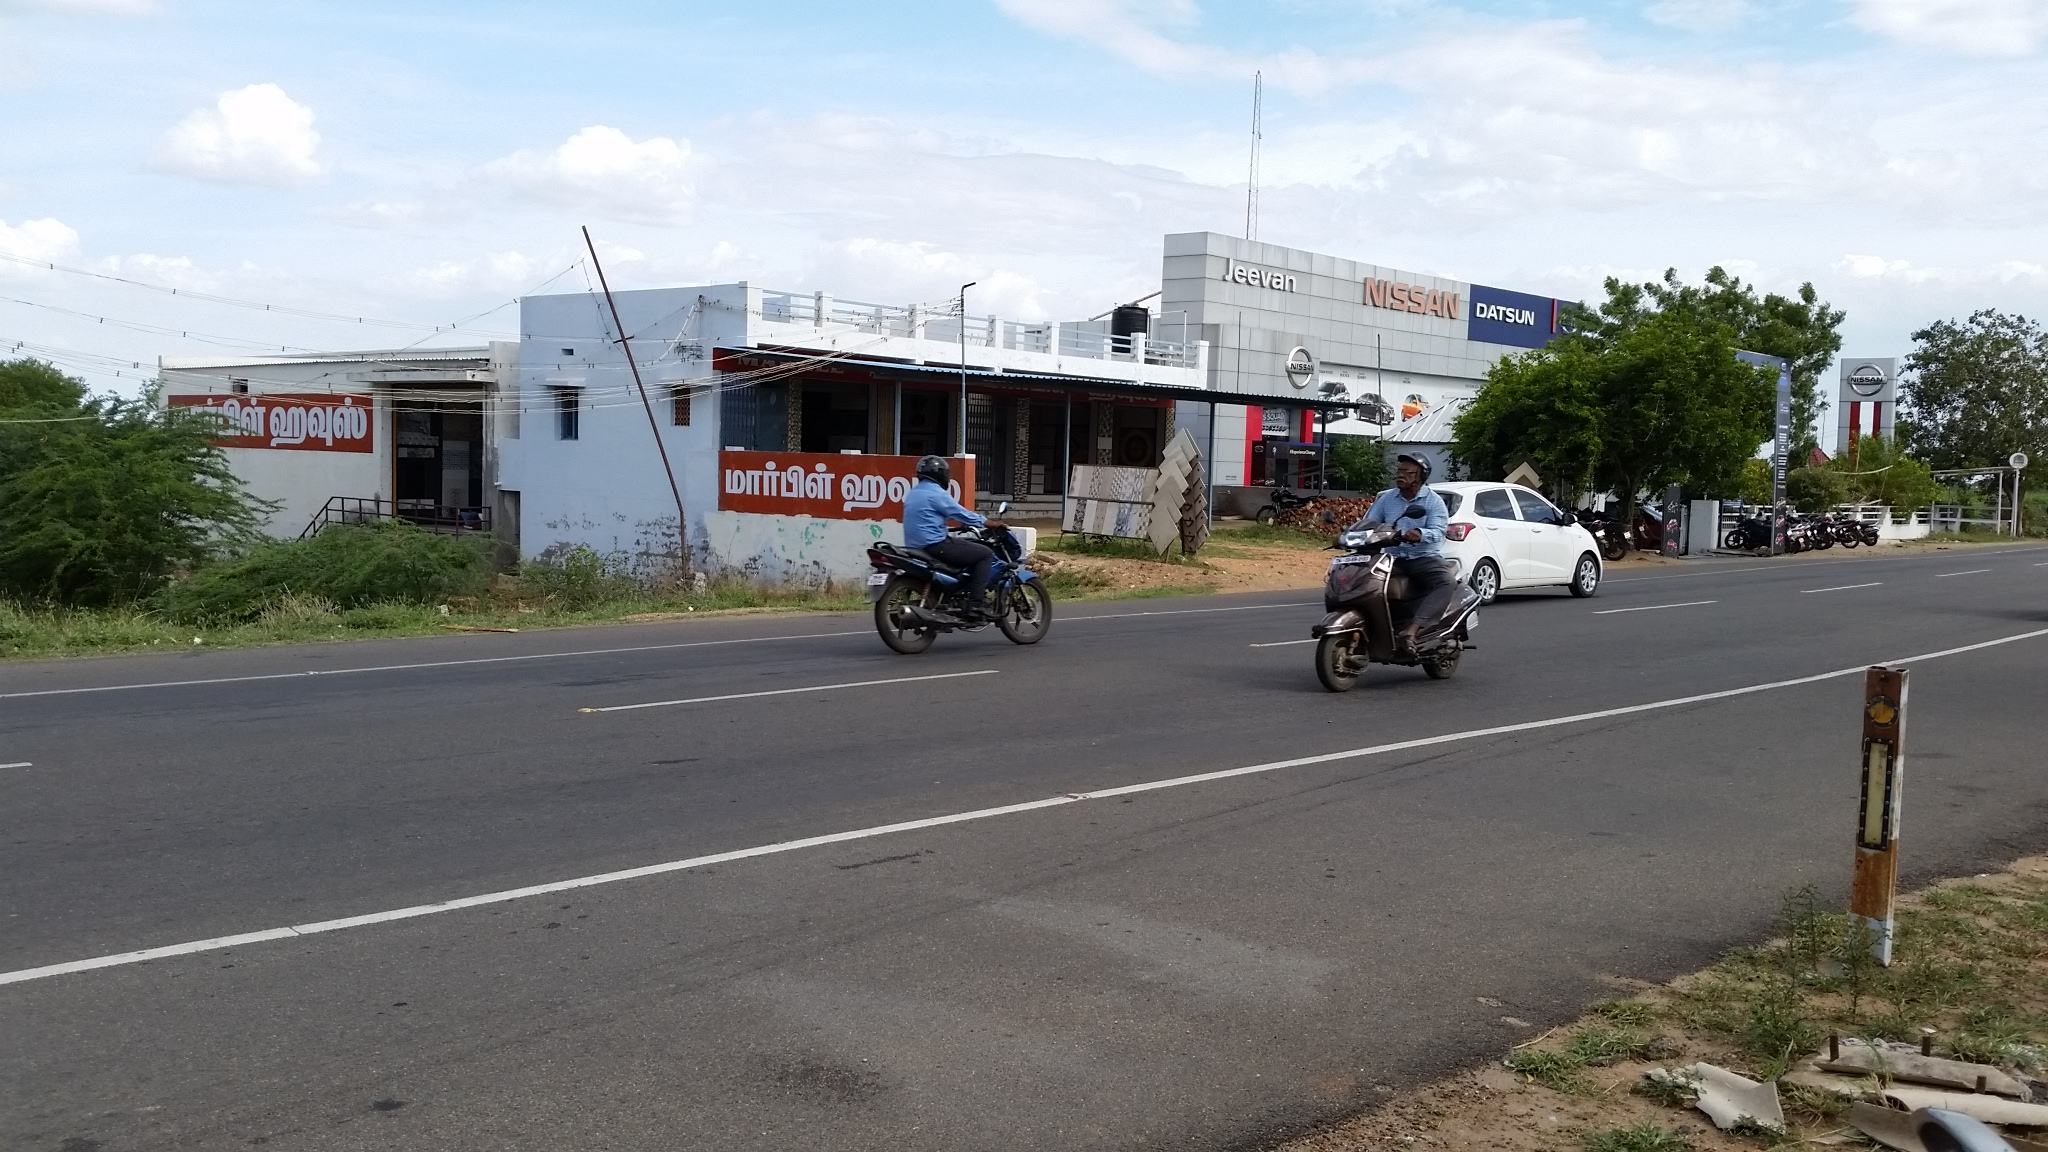biker: (1270, 436, 1526, 704), (832, 433, 1078, 680)
helmet: (1389, 440, 1438, 499), (910, 451, 963, 496)
